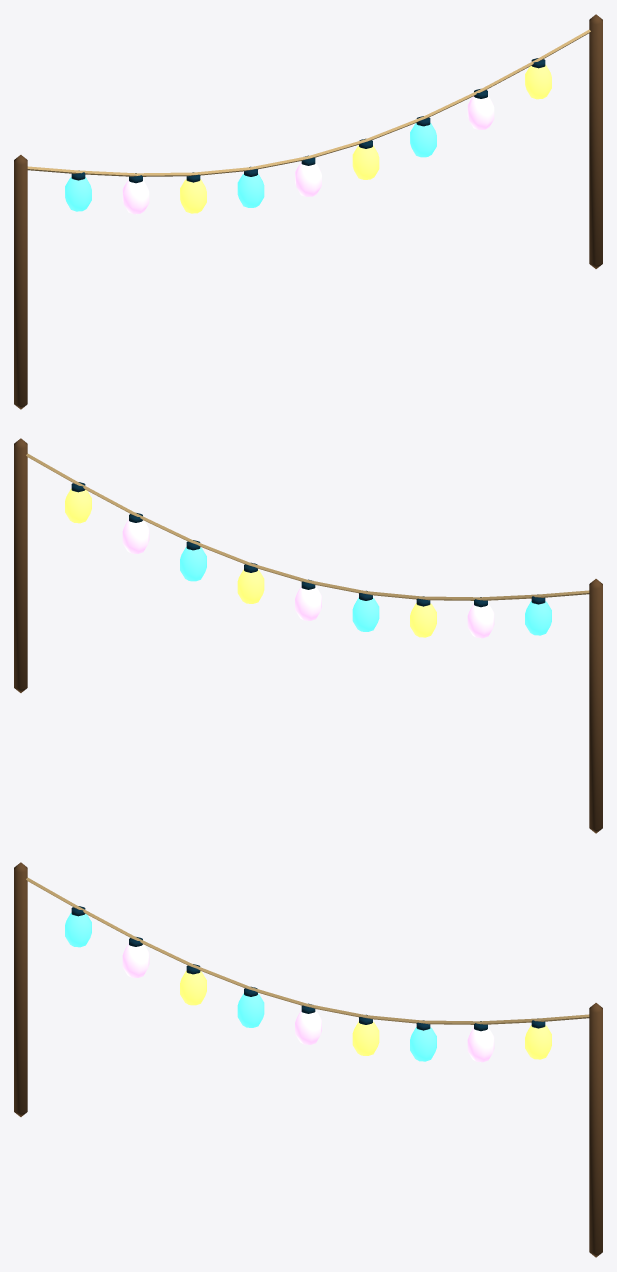
The model's file is W5_Lanterns.fbx.
The picture shows the model from 3 angles, top to bottom: view 1: azimuth 30°, elevation 25°; view 2: azimuth 150°, elevation 25°; view 3: azimuth 330°, elevation 25°; orthographic projection.
Visible parts, largest first — view 1: W5_Lanterns; view 2: W5_Lanterns; view 3: W5_Lanterns.
Boxes of the visible parts, x1,y1,x2,y2 form: W5_Lanterns: (14,14,602,409); W5_Lanterns: (14,438,602,833); W5_Lanterns: (14,862,602,1257).
Bounding box in the file's own units: 10.24 × 4.24 × 0.4185.
